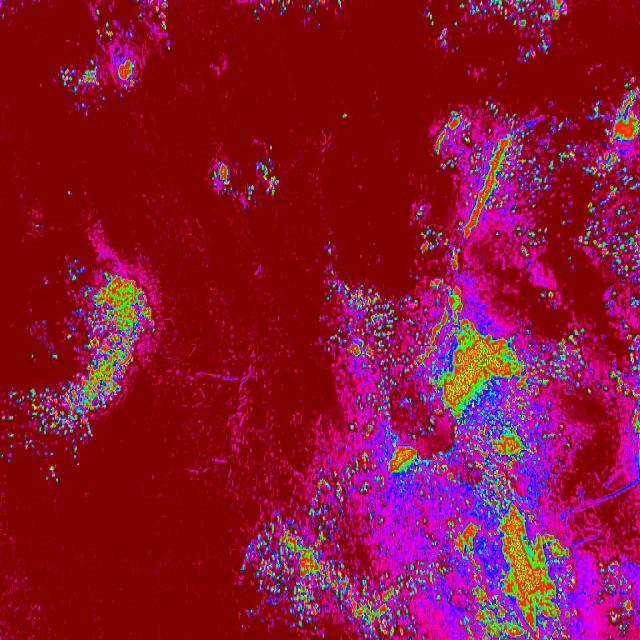fire: (340, 286, 586, 640), (430, 113, 552, 252), (242, 507, 340, 640), (580, 93, 640, 271), (62, 276, 154, 356), (603, 286, 640, 484), (448, 0, 572, 38), (10, 384, 125, 424), (595, 552, 640, 640), (54, 60, 105, 104), (68, 356, 136, 386), (243, 162, 280, 207), (310, 469, 340, 507), (114, 50, 139, 86), (212, 156, 234, 186)
